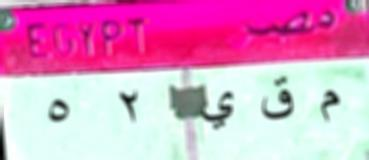2: (110, 86, 150, 130)
5: (39, 94, 82, 134)
meem: (308, 84, 344, 132)
qaaf: (254, 73, 300, 130)
yaa: (198, 85, 241, 134)
